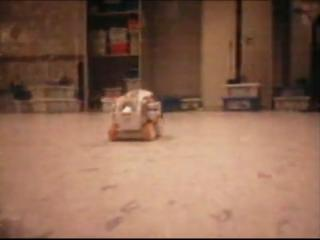cozmo: (106, 88, 164, 141)
